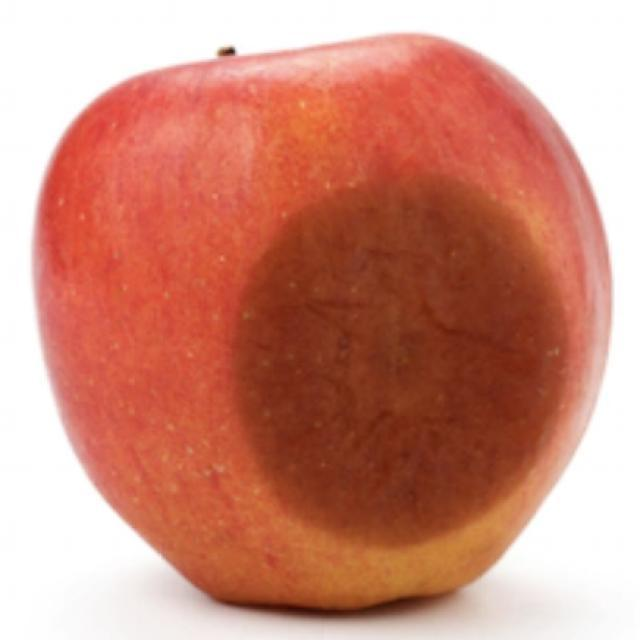Rotten: (33, 39, 607, 611)
